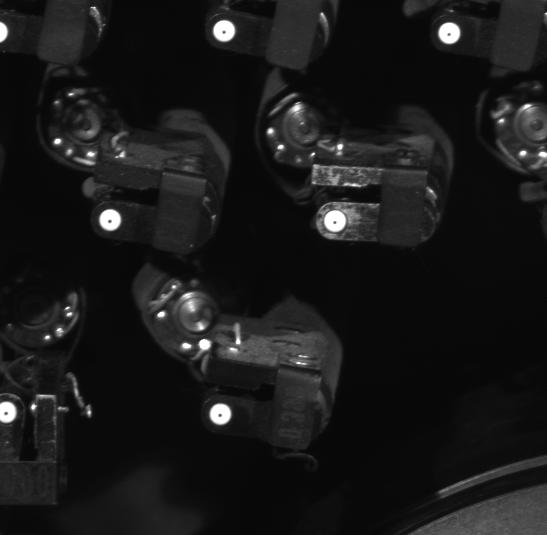fiber: (432, 17, 471, 48), (320, 206, 356, 237), (95, 204, 125, 237), (204, 401, 236, 429), (210, 17, 242, 45), (1, 397, 19, 425)
